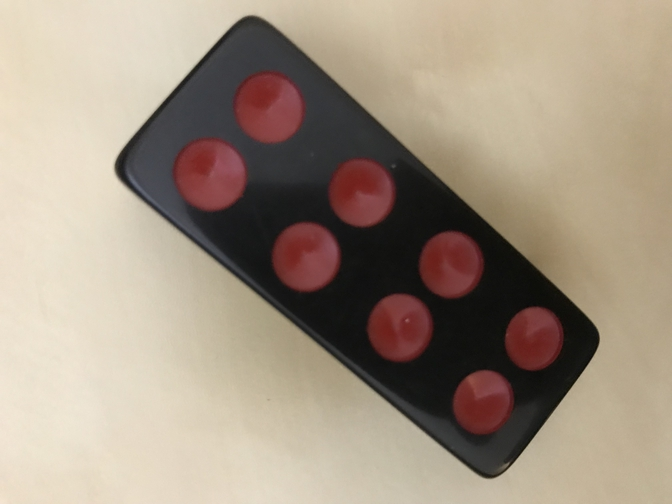man: (113, 15, 601, 480)
